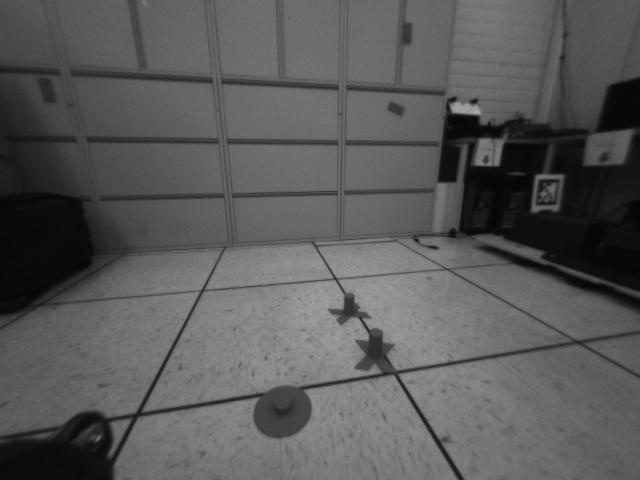X: (355, 328, 395, 374), (329, 293, 370, 325)
